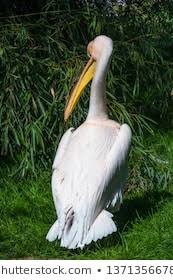pelican: (50, 35, 132, 244)
